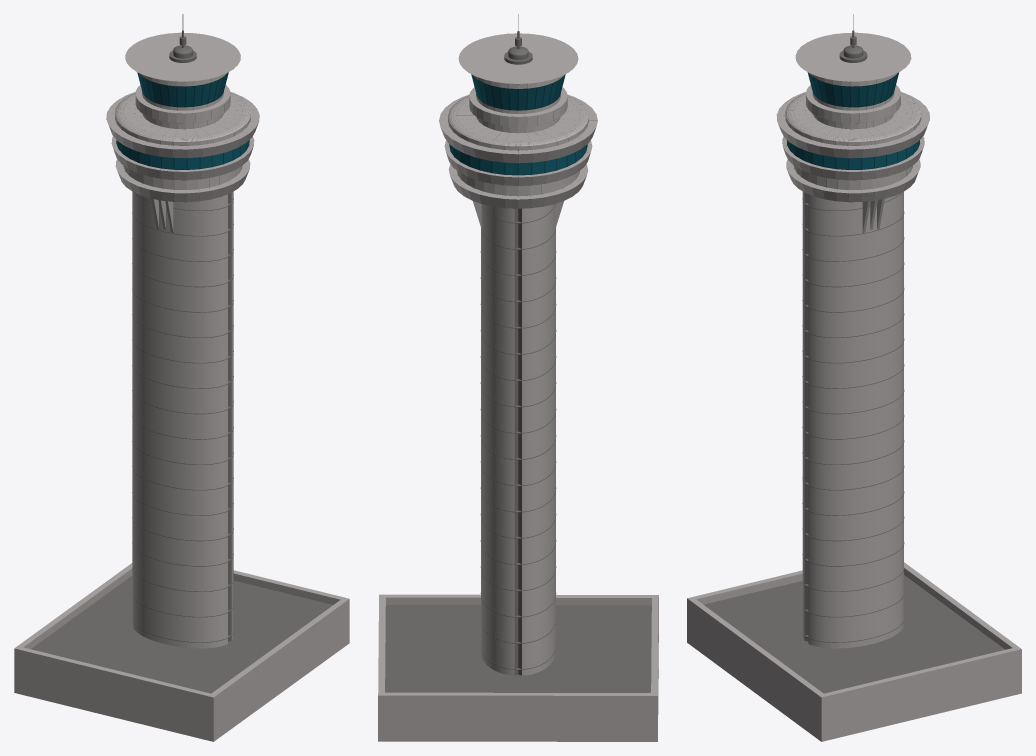
File: RJTTtower3.glb
3 renders of one model, left to right at view 1: azimuth 30°, elevation 25°; view 2: azimuth 150°, elevation 25°; view 3: azimuth 270°, elevation 25°, orthographic. The views are drawn at different scales.
Parts seen in each view (by area): view 1: Cylinder, Cube.001, Cylinder.002; view 2: Cube.001, Cylinder, Cylinder.002, Cylinder.001; view 3: Cylinder, Cube.001, Cylinder.002.
Boxes of the visible parts, bbox=[...] form: Cylinder: bbox=[132, 191, 233, 648]; Cube.001: bbox=[14, 563, 349, 741]; Cylinder.002: bbox=[106, 32, 259, 232]; Cube.001: bbox=[378, 594, 658, 741]; Cylinder: bbox=[480, 204, 556, 675]; Cylinder.002: bbox=[439, 33, 597, 228]; Cylinder.001: bbox=[504, 14, 532, 64]; Cylinder: bbox=[802, 191, 904, 648]; Cube.001: bbox=[687, 562, 1021, 741]; Cylinder.002: bbox=[776, 32, 929, 232].
Size of the model in its own units: 56 by 116 by 53.63.
